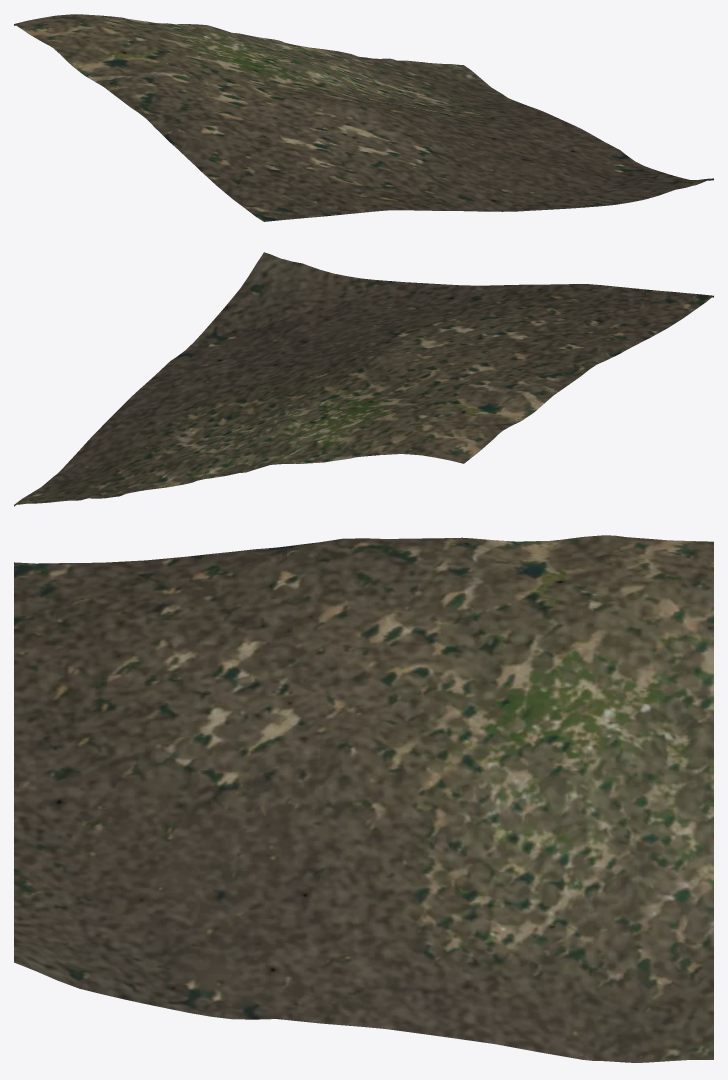
The picture shows the model from 3 angles, top to bottom: view 1: azimuth 30°, elevation 25°; view 2: azimuth 150°, elevation 25°; view 3: azimuth 270°, elevation 25°; orthographic projection. The views are drawn at different scales.
Bounding box in the file's own units: 250 × 84.67 × 241.
1 material, 1 textured.
